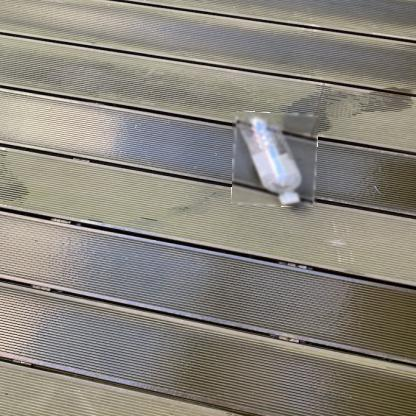plastic-bottles: (233, 114, 319, 208)
